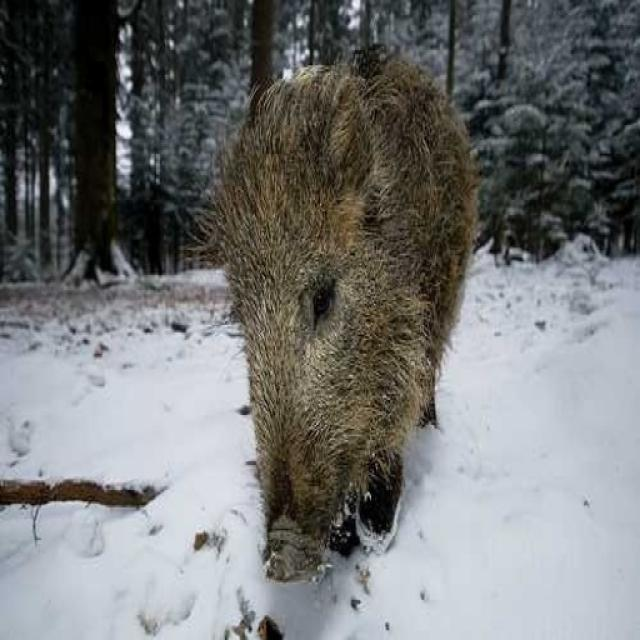pig: (192, 52, 478, 563)
